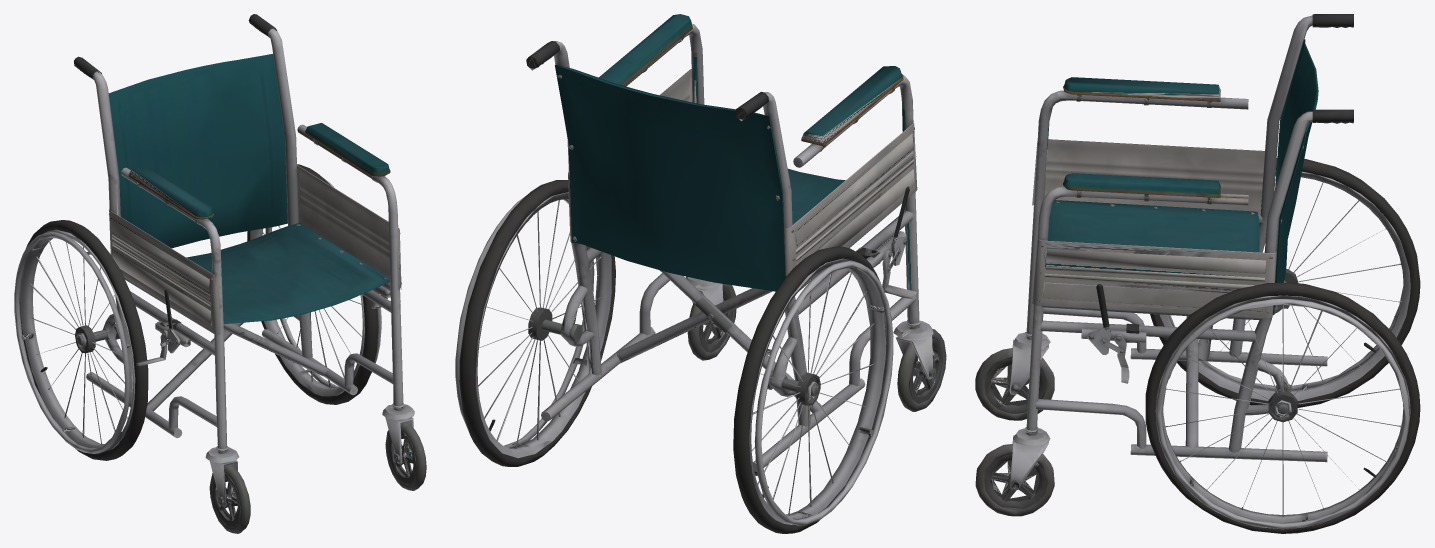
The model's file is wheelchair_01.glb.
3 views of the same model, side by side, from view 1: azimuth 30°, elevation 25°; view 2: azimuth 150°, elevation 25°; view 3: azimuth 270°, elevation 25° (orthographic). The views are drawn at different scales.
Parts seen in each view (by area): view 1: wheelchair_01; view 2: wheelchair_01; view 3: wheelchair_01.
Boxes of the visible parts, box(x1,y1,x2,y2) form: wheelchair_01: box(14, 14, 426, 533); wheelchair_01: box(455, 14, 946, 533); wheelchair_01: box(975, 14, 1420, 533).
Size of the model in its own units: 0.8241 by 1.1 by 1.09.
Materials: 1 (1 with a texture image).
